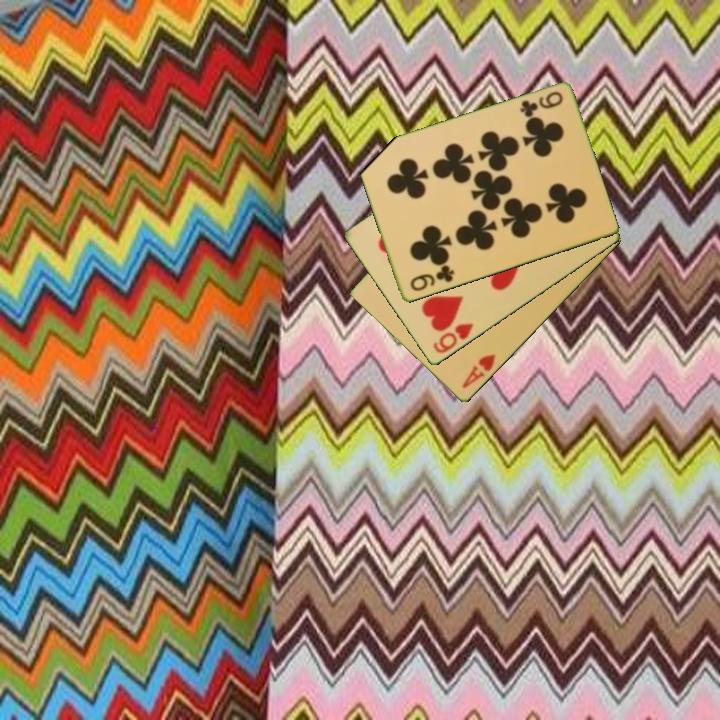6h: (429, 320, 476, 357)
9c: (406, 262, 457, 295), (516, 88, 566, 121)
Ah: (458, 350, 499, 391)
